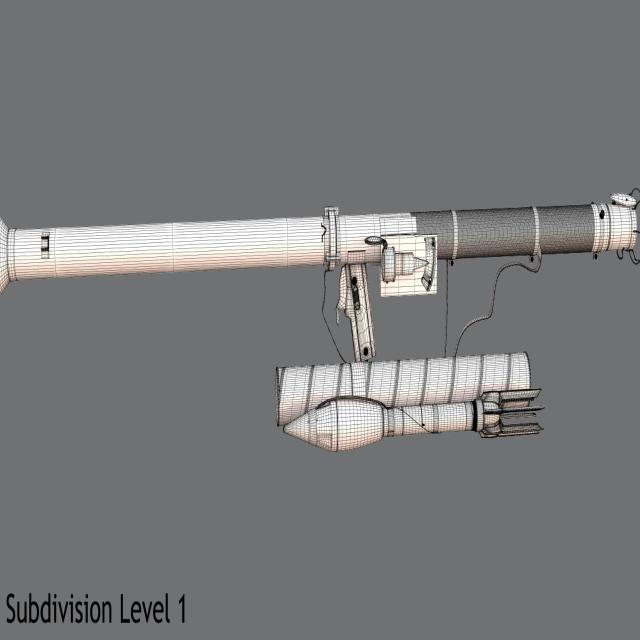Weapon: (0, 216, 336, 293), (334, 212, 417, 262)
